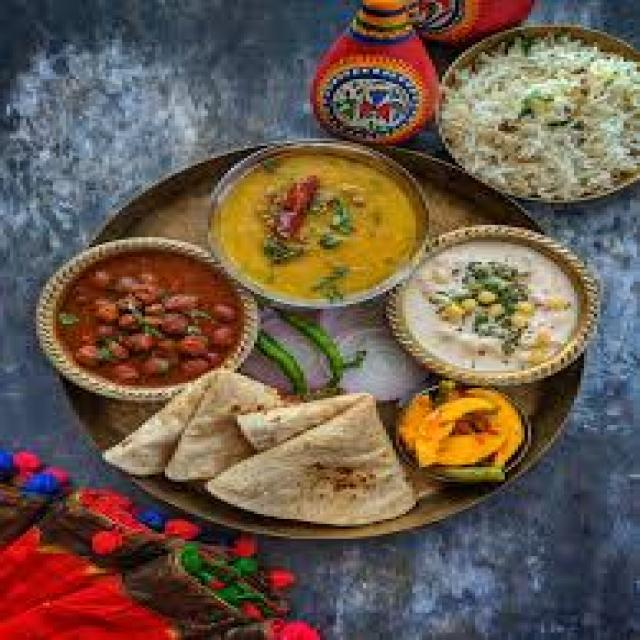dal: (196, 149, 423, 308)
papad: (208, 390, 404, 523)
rice: (430, 30, 640, 207)
roti: (108, 367, 268, 482)
sweet: (397, 384, 533, 479)
veg-fry: (34, 245, 258, 389)
